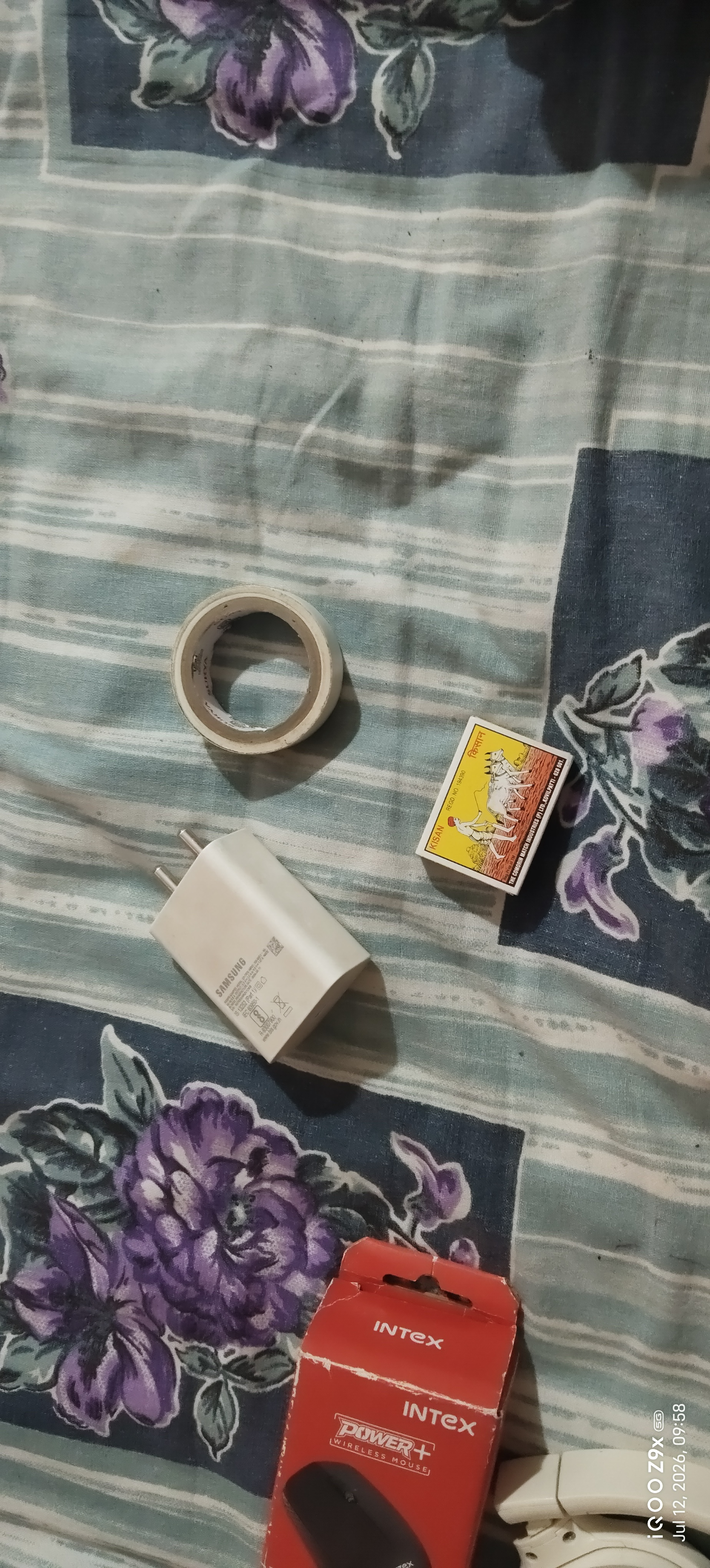charger: (136, 812, 380, 1071)
matchbox: (398, 707, 588, 909)
tape_roll: (165, 581, 349, 773)
